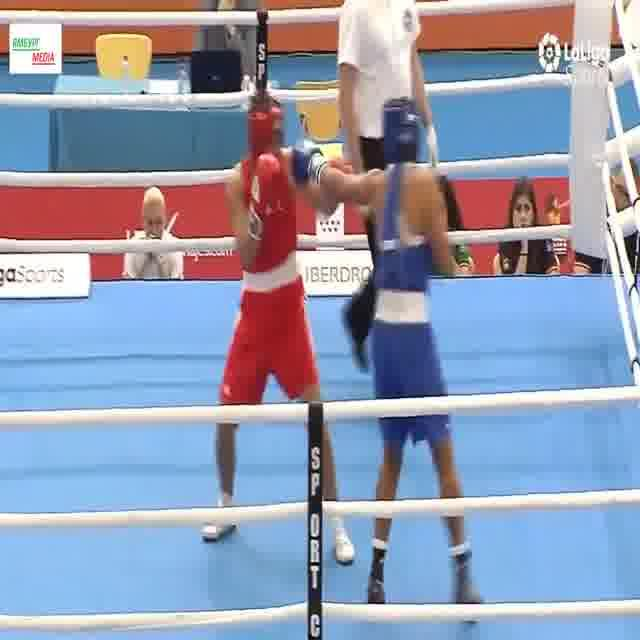blue-player: (289, 93, 485, 624)
red-player: (199, 96, 359, 570)
referee: (331, 0, 443, 371)
